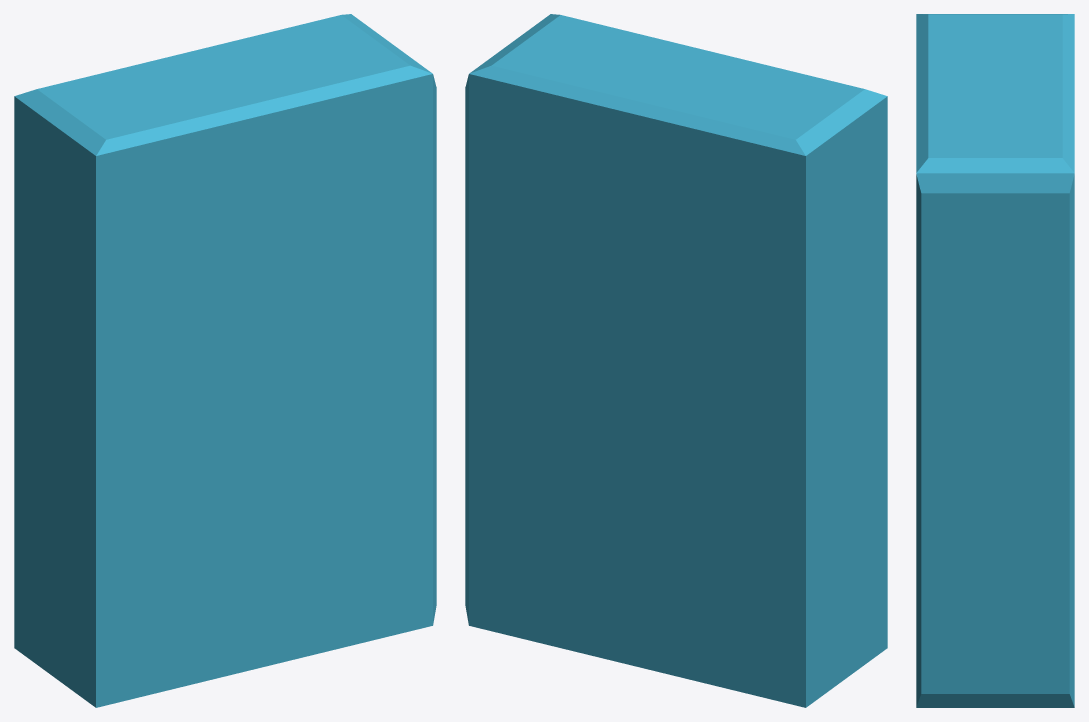
File: Itr_Couch_Inside_Back_05.FBX
The picture shows the model from 3 angles, left to right: view 1: azimuth 30°, elevation 25°; view 2: azimuth 150°, elevation 25°; view 3: azimuth 270°, elevation 25°; orthographic projection. The views are drawn at different scales.
Visible parts, largest first — view 1: Itr_Couch_Inside_Back_05; view 2: Itr_Couch_Inside_Back_05; view 3: Itr_Couch_Inside_Back_05.
Boxes of the visible parts, x1,y1,x2,y2 form: Itr_Couch_Inside_Back_05: (14, 14, 436, 707); Itr_Couch_Inside_Back_05: (465, 14, 887, 707); Itr_Couch_Inside_Back_05: (916, 14, 1074, 707).
Bounding box in the file's own units: 18.9 × 29.45 × 7.8.
